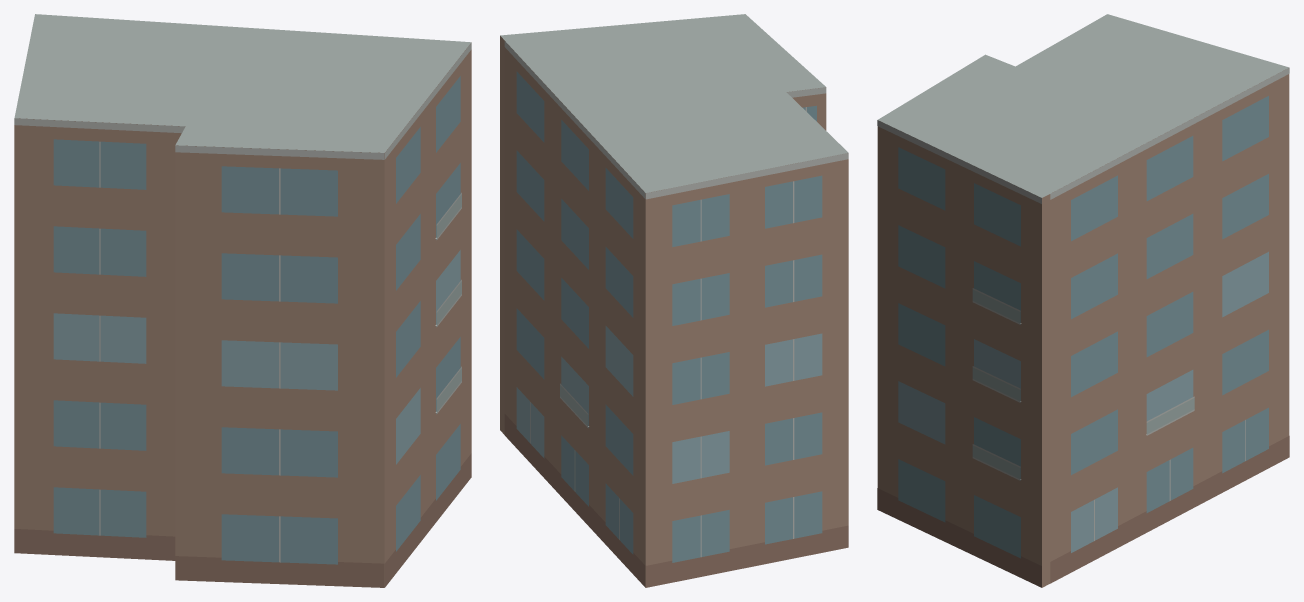
The model's file is survey-upis-32999358.glb.
The picture shows the model from 3 angles, left to right: view 1: azimuth 30°, elevation 25°; view 2: azimuth 150°, elevation 25°; view 3: azimuth 270°, elevation 25°; orthographic projection. The views are drawn at different scales.
Visible parts, largest first — view 1: survey-upis-32999358.tmp; view 2: survey-upis-32999358.tmp; view 3: survey-upis-32999358.tmp.
Part boxes in pixels (x1=…): survey-upis-32999358.tmp: x1=14, y1=14, x2=471, y2=587; survey-upis-32999358.tmp: x1=500, y1=14, x2=848, y2=587; survey-upis-32999358.tmp: x1=877, y1=14, x2=1289, y2=587.
Size of the model in its own units: 15.44 by 15.25 by 14.61.
